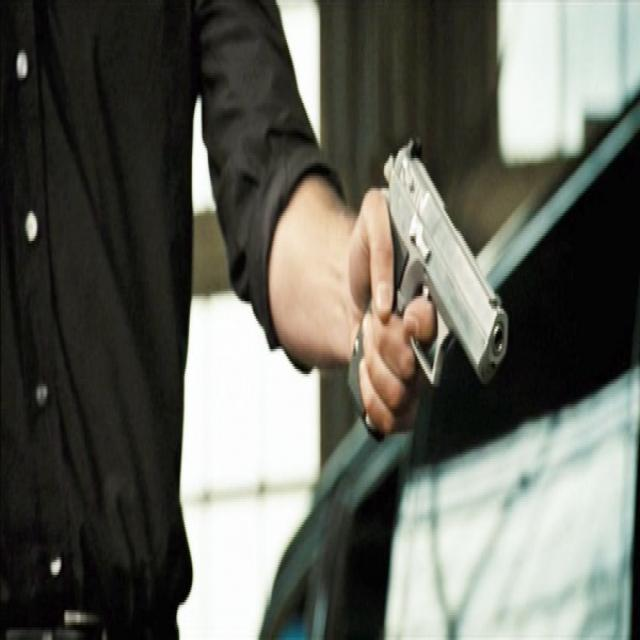weapons: (338, 113, 516, 465)
